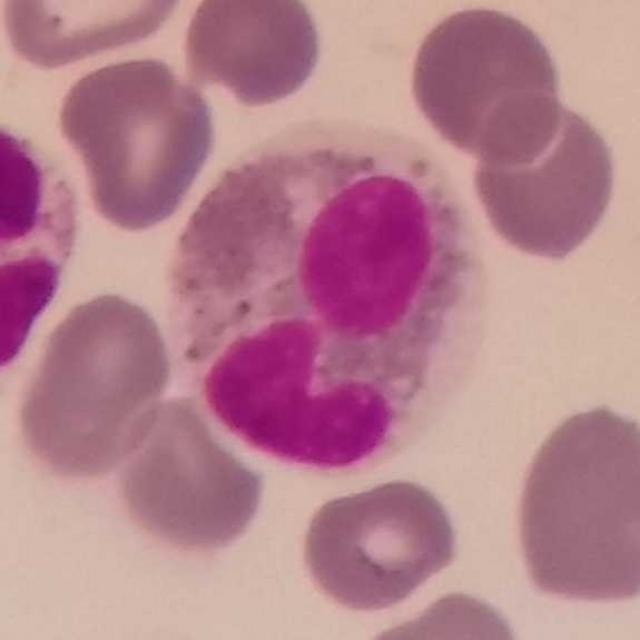Eosinophil: (163, 119, 504, 473), (0, 110, 86, 380)
RBC: (8, 285, 179, 484), (52, 48, 220, 234), (505, 396, 640, 614), (466, 92, 624, 266), (110, 389, 268, 560), (404, 1, 567, 165), (296, 473, 465, 617), (177, 0, 328, 110), (0, 0, 194, 71), (347, 585, 531, 640)
